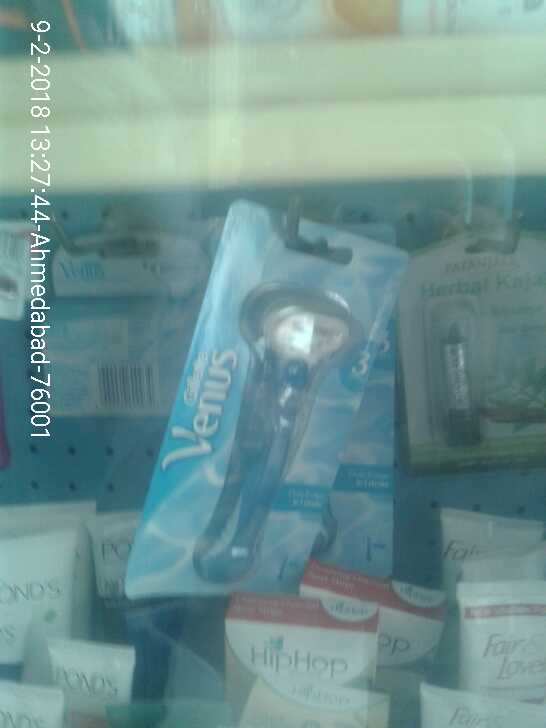venus: (144, 242, 406, 612)
